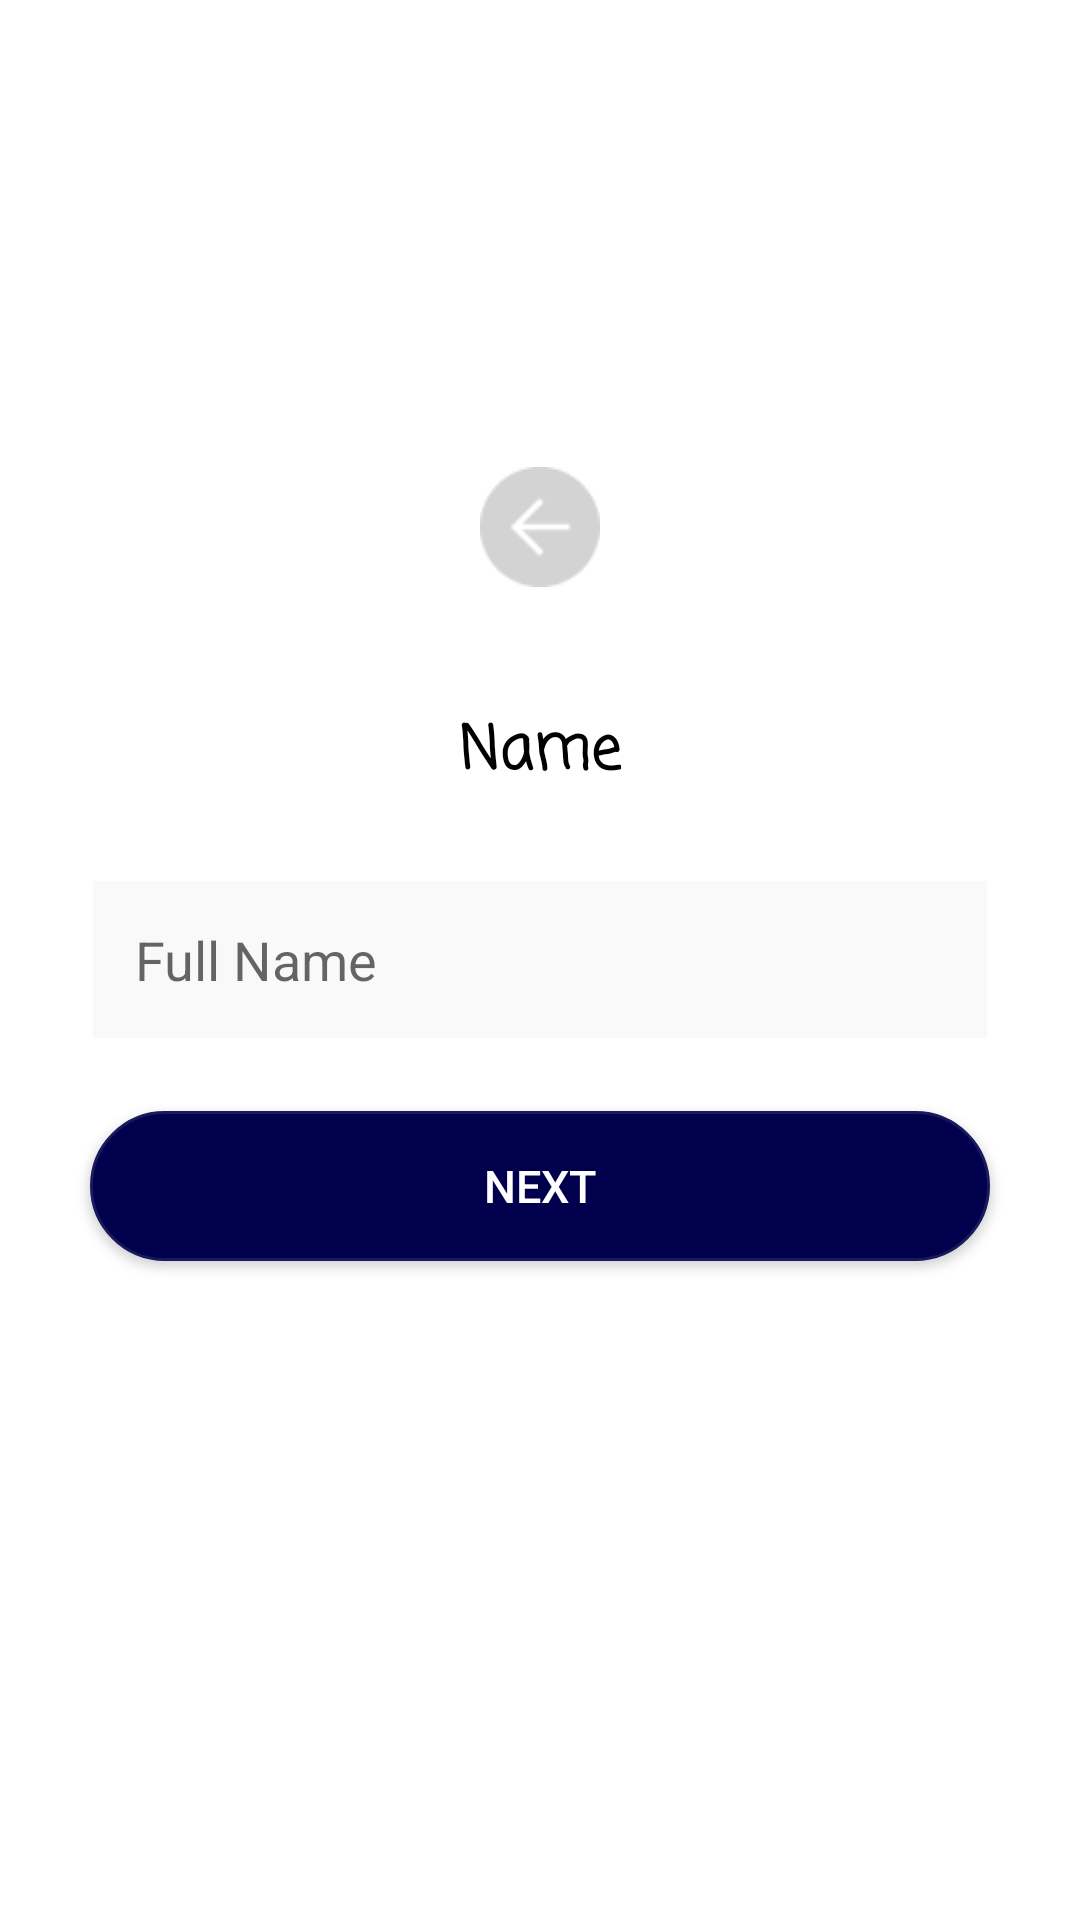

Screen size 1080px x 1920px. Icon name, then its box in pixels as box=[x1, y1, x2, y2]:
back: box=[480, 467, 600, 587]
